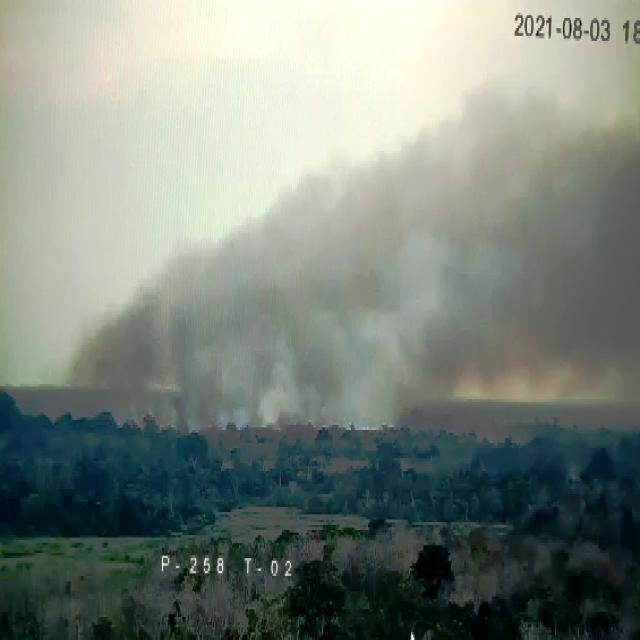asap: (46, 65, 640, 446)
